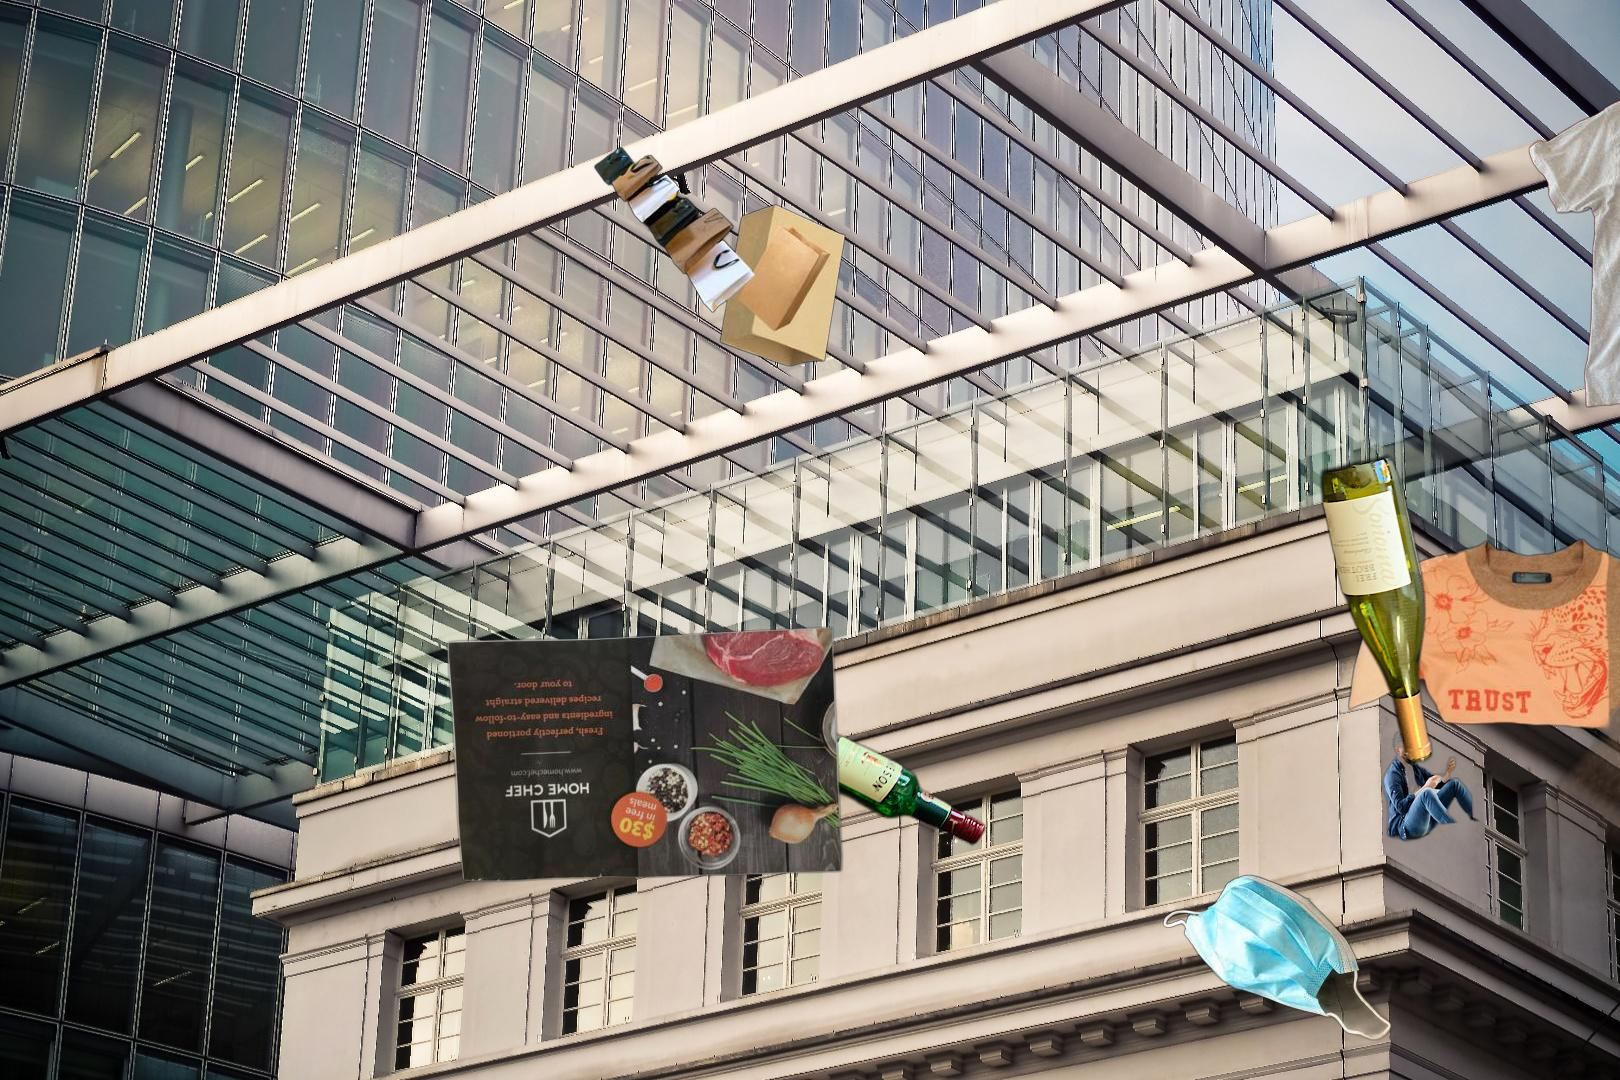clothes: (1345, 534, 1620, 1025), (1525, 72, 1620, 413)
glass: (1316, 448, 1437, 767), (776, 714, 990, 851)
paper: (444, 623, 847, 885)
paper-bag: (591, 143, 849, 369)
trash: (1160, 871, 1396, 1043)
trashbox-cardboard: (1377, 726, 1620, 905)
